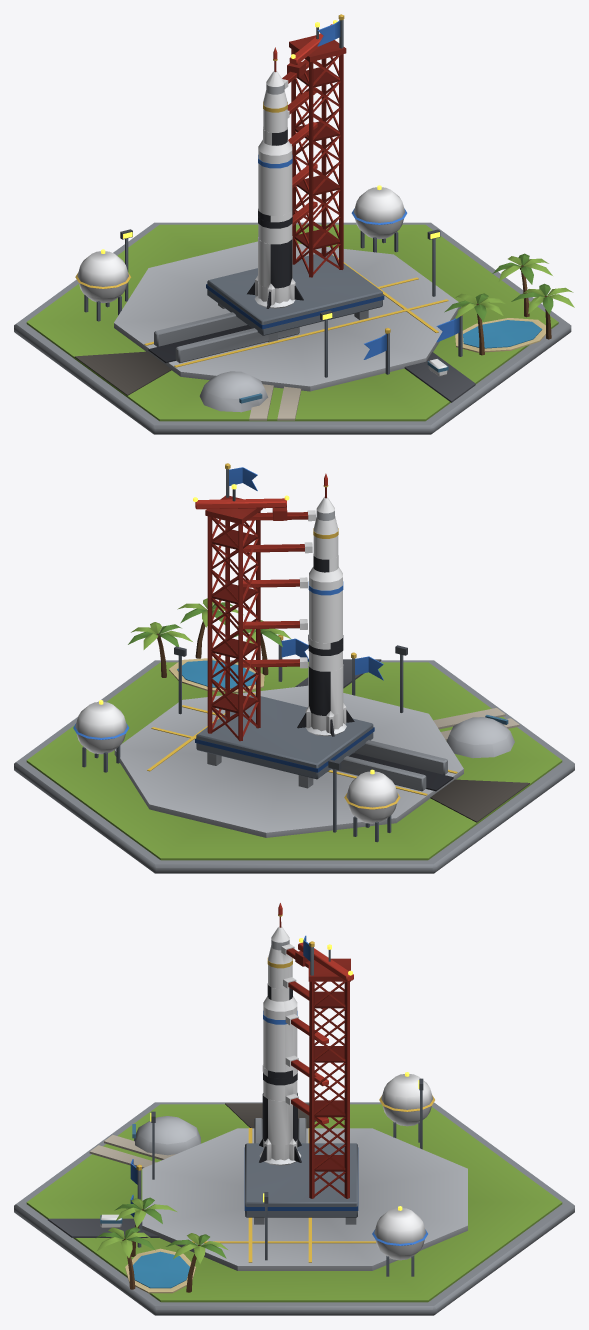
The model's file is w_launch_pad.glb.
The picture shows the model from 3 angles, top to bottom: view 1: azimuth 30°, elevation 25°; view 2: azimuth 150°, elevation 25°; view 3: azimuth 270°, elevation 25°; orthographic projection.
Visible parts, largest first — view 1: w_launch_pad; view 2: w_launch_pad; view 3: w_launch_pad.
Part boxes in pixels (x1,y1,x2,y2): w_launch_pad: (14,14,574,434); w_launch_pad: (14,463,574,873); w_launch_pad: (14,903,574,1315).
Size of the model in its own units: 1.39 by 0.942 by 1.59.
